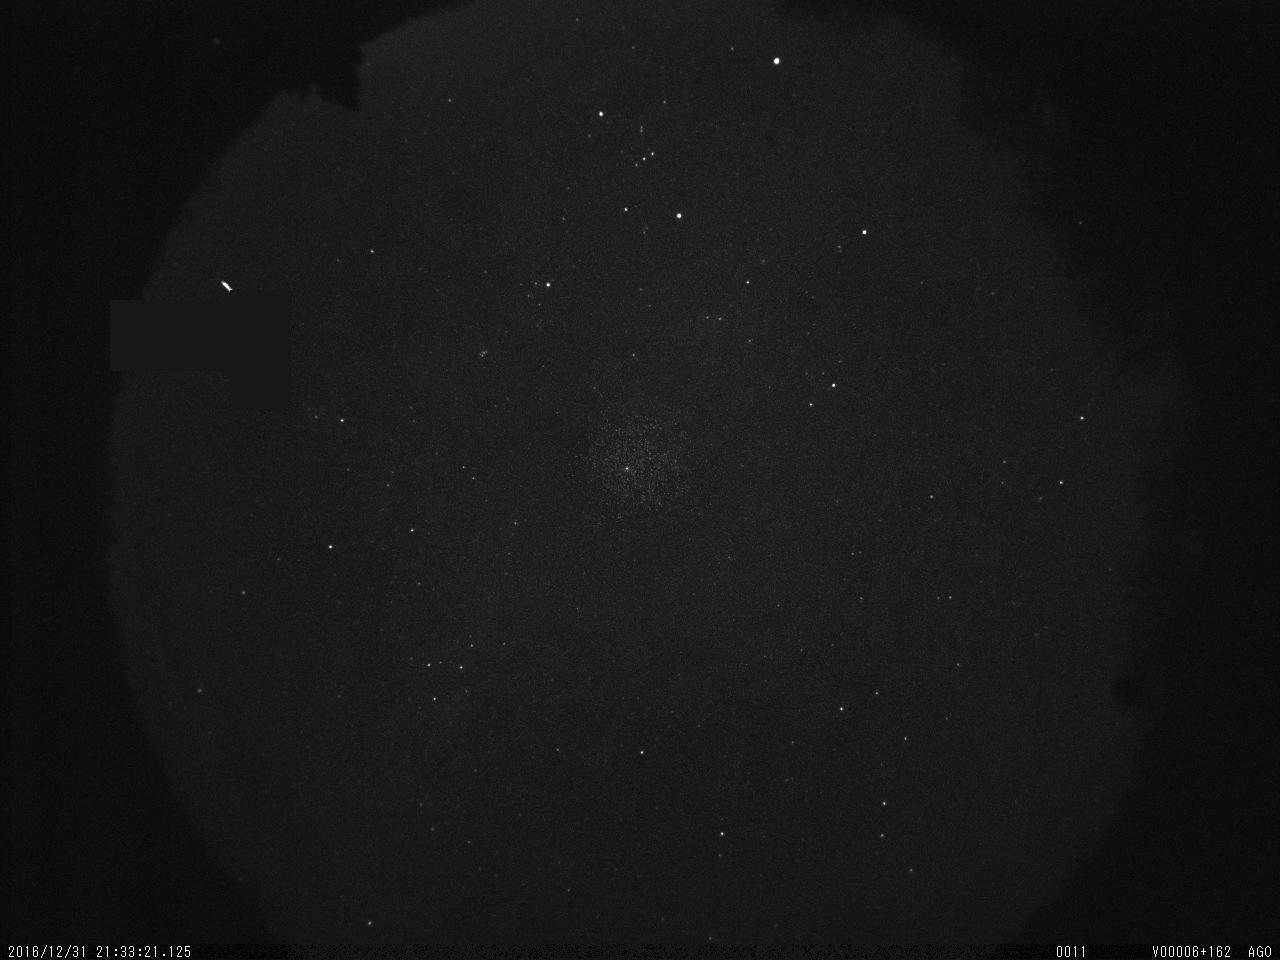meteor: (204, 269, 266, 325)
